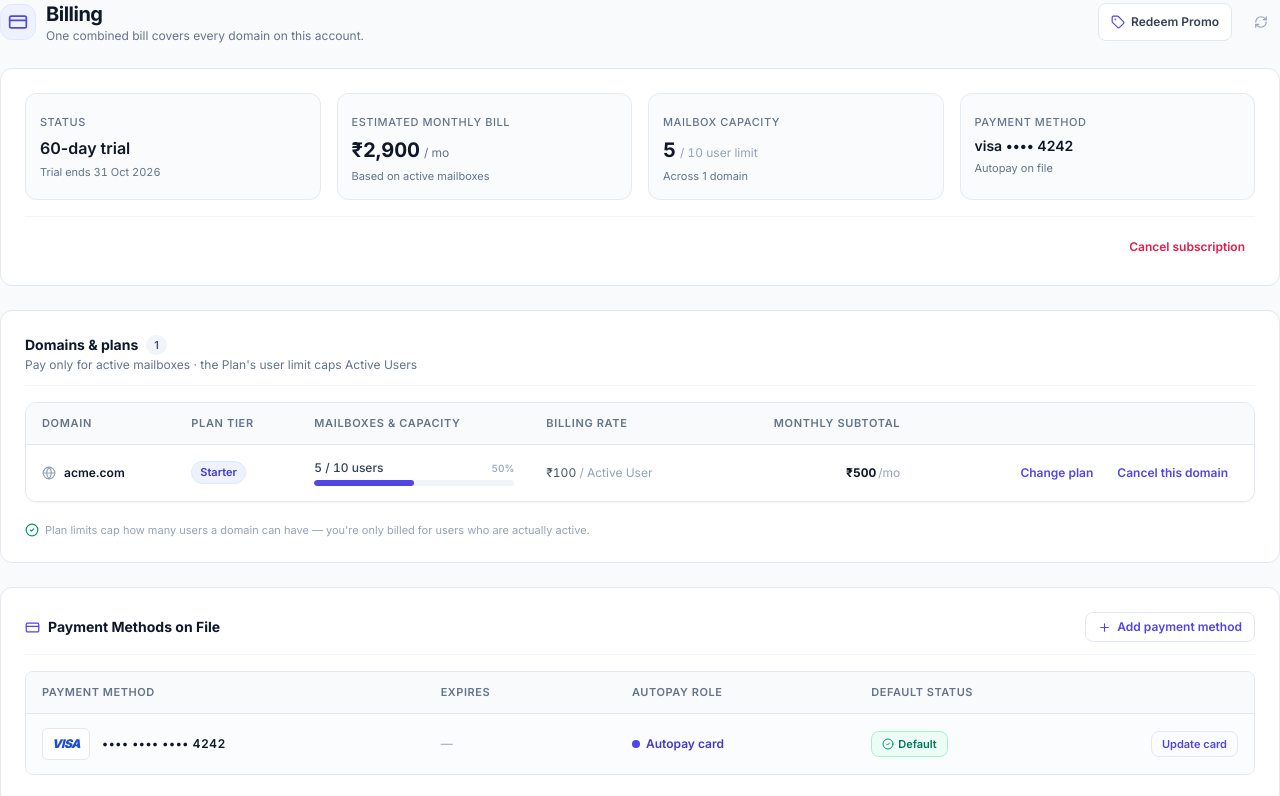
it: BillingView: changing a domain's Plan › cancelling a domain and choosing a plan again › as the only billed domain, confirming cancels the subscription at period end and row shows scheduled cancel with Resume
Click the button "Cancel this domain" at (1173, 472), box [1107,458,1238,486]
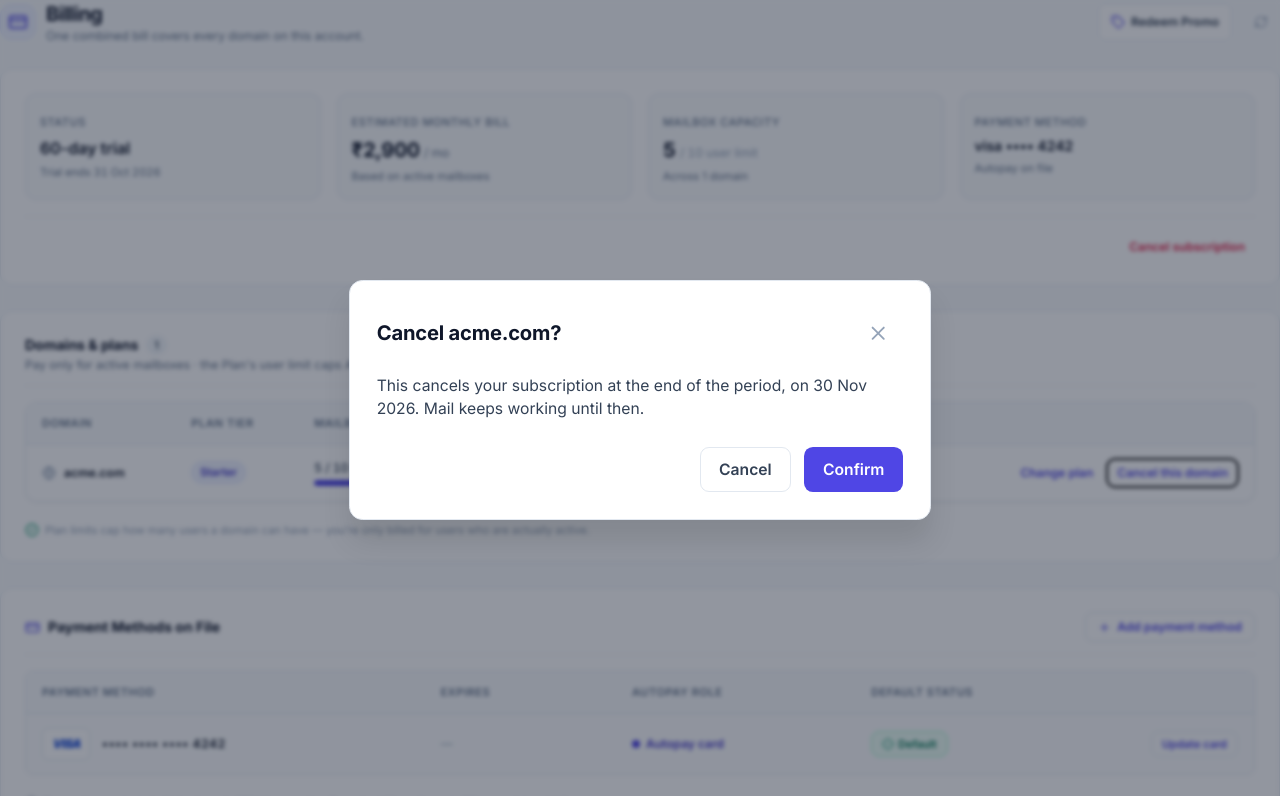
Click the button "Confirm" at (854, 469), box [804,447,903,492]
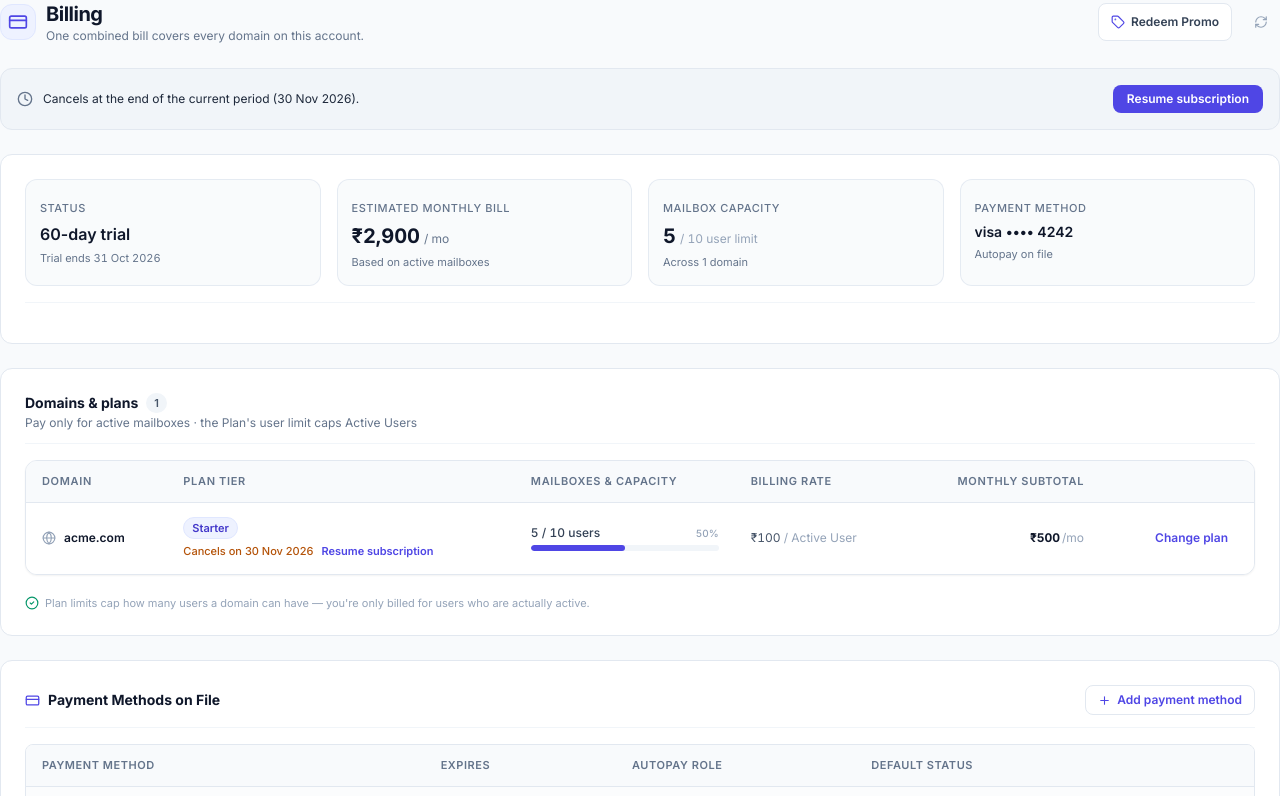
Now the text "Cancels on 30 Nov 2026 Resume subscription" is shown, box [183,543,433,560]
Now the button "Resume subscription" in the row of "Cancels on" is shown, box [321,543,433,560]
Now the button "Cancel this domain" is gone
